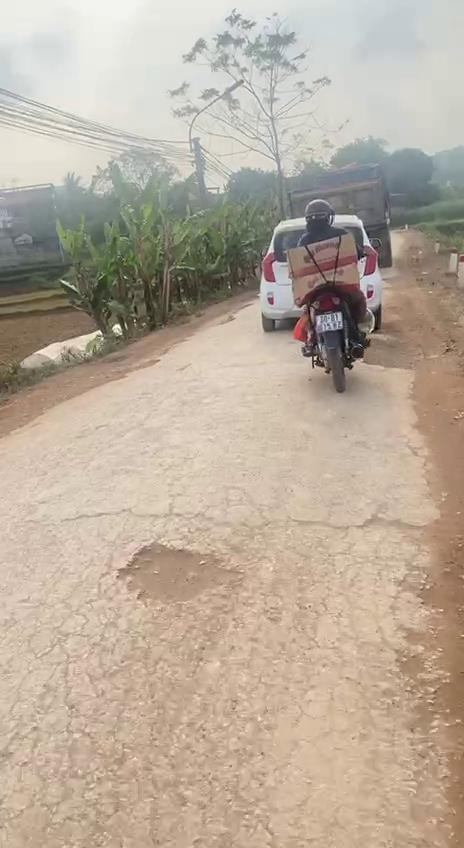pothole: (112, 540, 242, 614)
